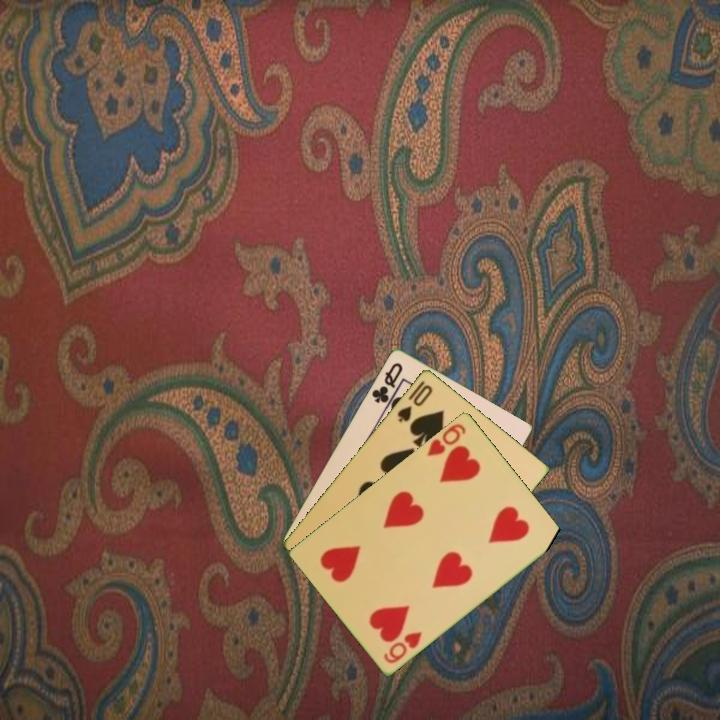10s: (394, 381, 436, 425)
6h: (423, 420, 469, 459), (380, 628, 425, 666)
Qc: (368, 358, 406, 411)
